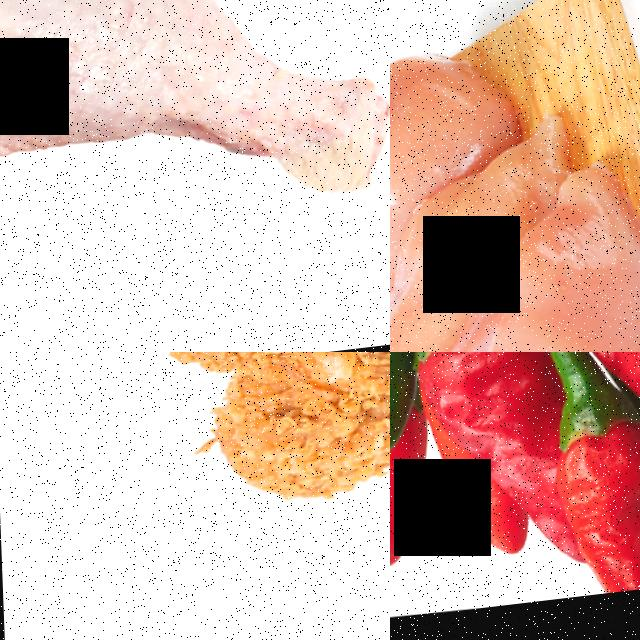chicken breast: (454, 204, 640, 352), (390, 230, 452, 352)
chicken thigh: (0, 0, 390, 251), (183, 352, 390, 523)
chilli: (549, 374, 640, 607), (552, 352, 640, 452), (390, 440, 424, 578)
